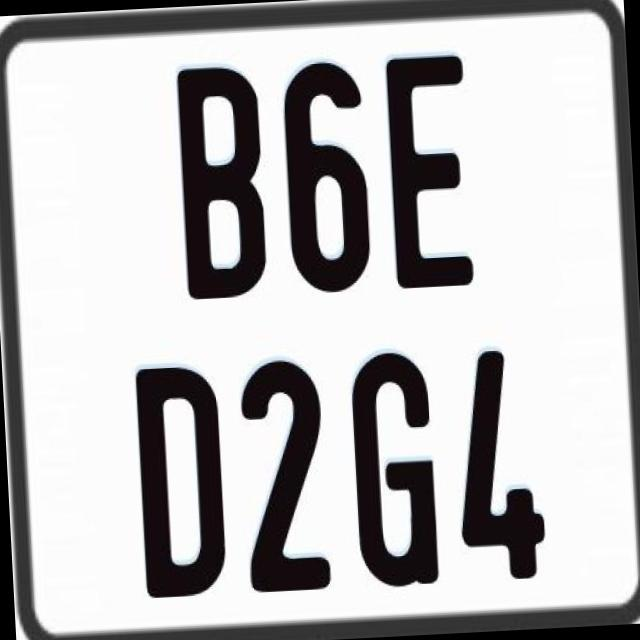2: (239, 357, 334, 593)
4: (452, 347, 554, 588)
6: (278, 60, 376, 301)
B: (176, 64, 268, 302)
D: (136, 366, 229, 606)
E: (385, 50, 477, 292)
G: (349, 350, 439, 594)
